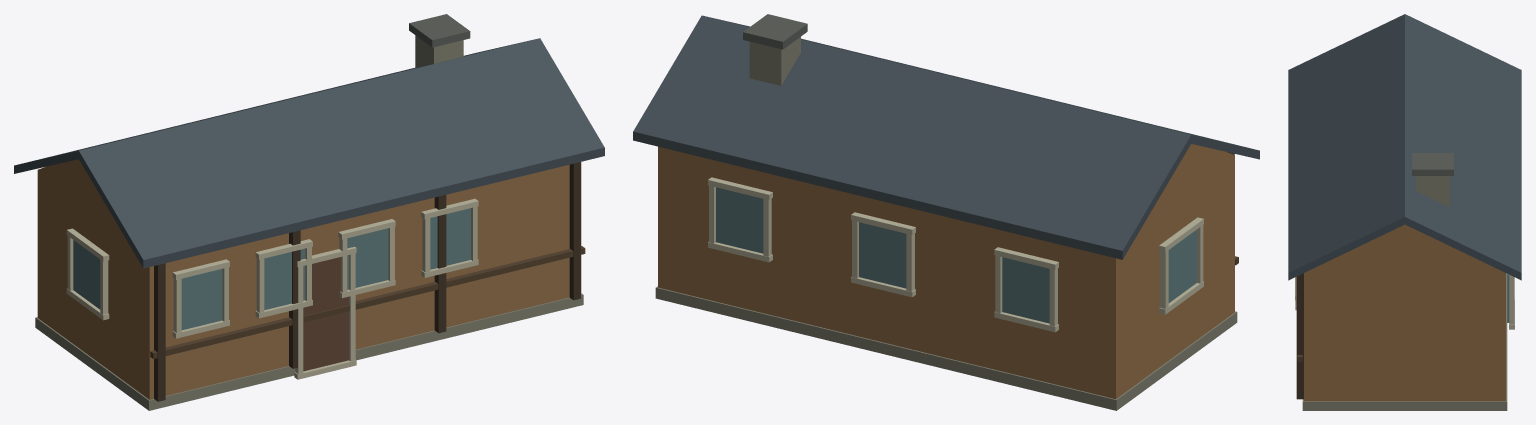
File: Building_Settlement_TimberLonghouse_001_LOD1.glb
3 views of the same model, side by side, from view 1: azimuth 30°, elevation 25°; view 2: azimuth 150°, elevation 25°; view 3: azimuth 270°, elevation 25° (orthographic). The views are drawn at different scales.
Visible parts, largest first — view 1: Building_Settlement_TimberLonghouse_001_LOD1; view 2: Building_Settlement_TimberLonghouse_001_LOD1; view 3: Building_Settlement_TimberLonghouse_001_LOD1.
Part boxes in pixels (x1,y1,x2,y2): Building_Settlement_TimberLonghouse_001_LOD1: (14, 14, 604, 410); Building_Settlement_TimberLonghouse_001_LOD1: (633, 14, 1259, 410); Building_Settlement_TimberLonghouse_001_LOD1: (1288, 14, 1521, 410).
Size of the model in its own units: 8.55 by 4.31 by 4.15.
